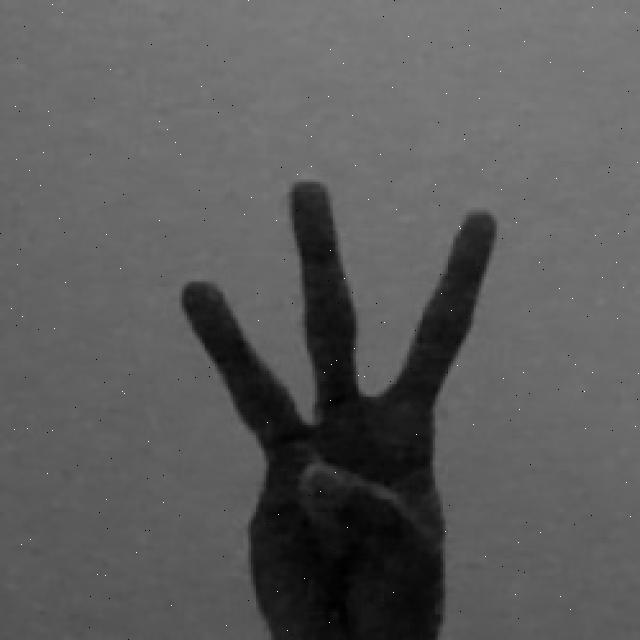W: (169, 168, 504, 640)
